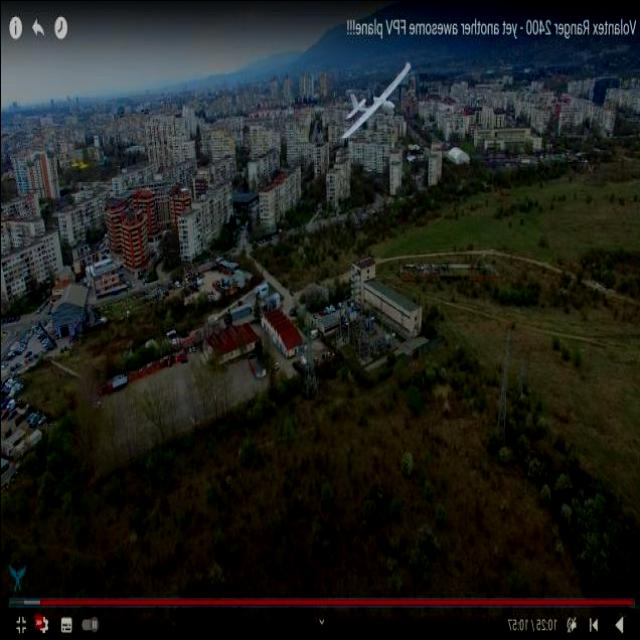plane: (337, 60, 412, 144)
